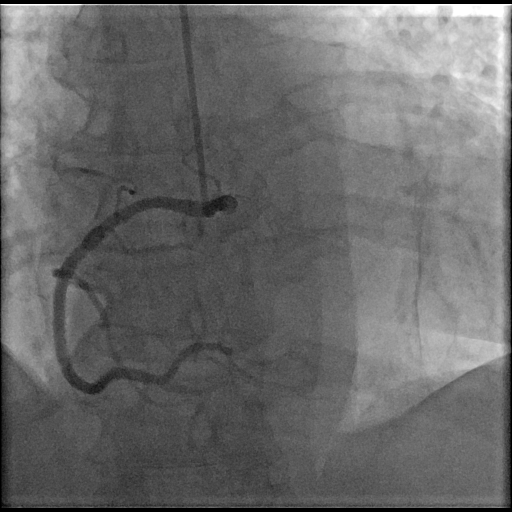RCA: (54, 196, 237, 393)
catherter: (180, 6, 217, 216)
